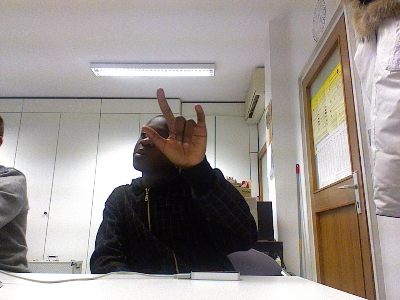我爱你: (140, 87, 207, 167)
